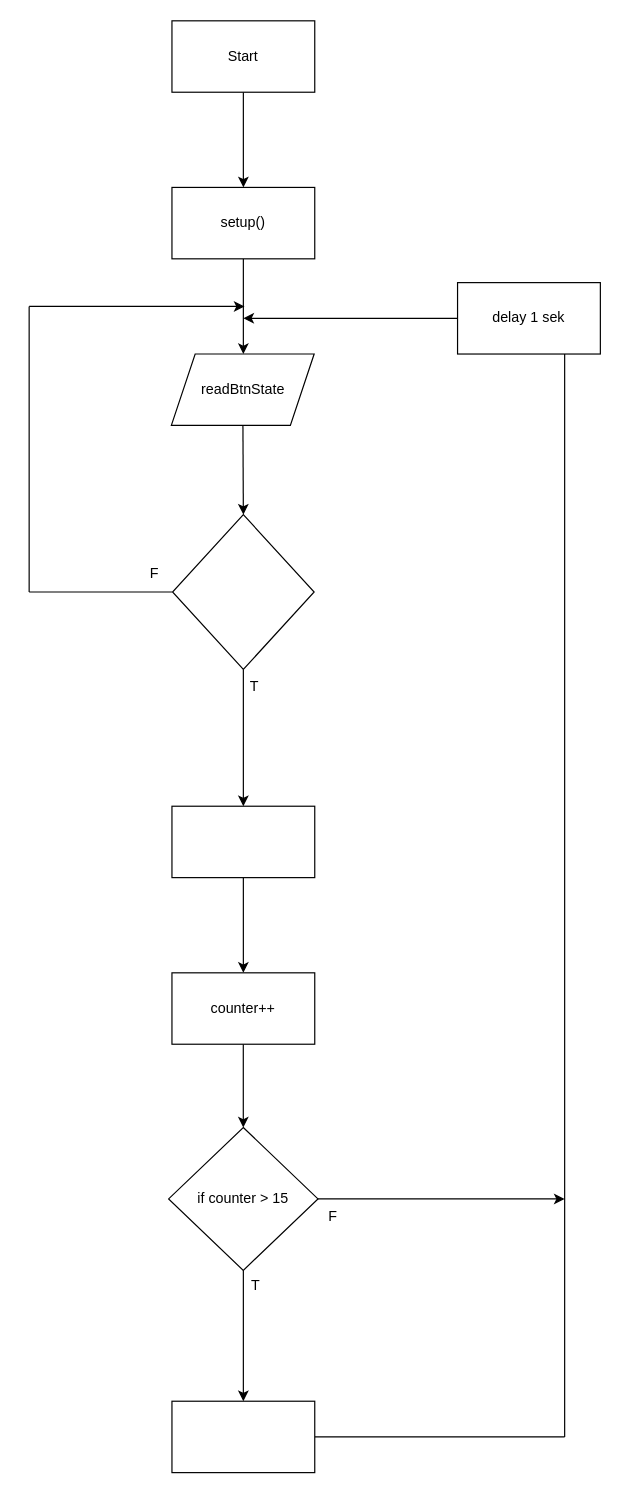
Some shapes in this 621 by 1493 pixel diagram are drawn without their labels. Each missing label, with the centre of its shape:
counter = 1: point 243,1436
if btnState == 1: point 242,591
lightUp(): point 243,841
